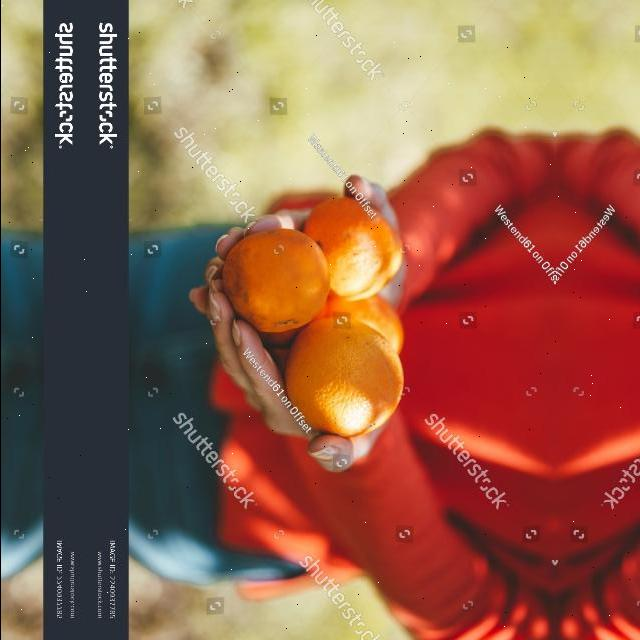Orange: (284, 314, 405, 438), (221, 227, 330, 333), (303, 195, 404, 300), (316, 293, 405, 354)
